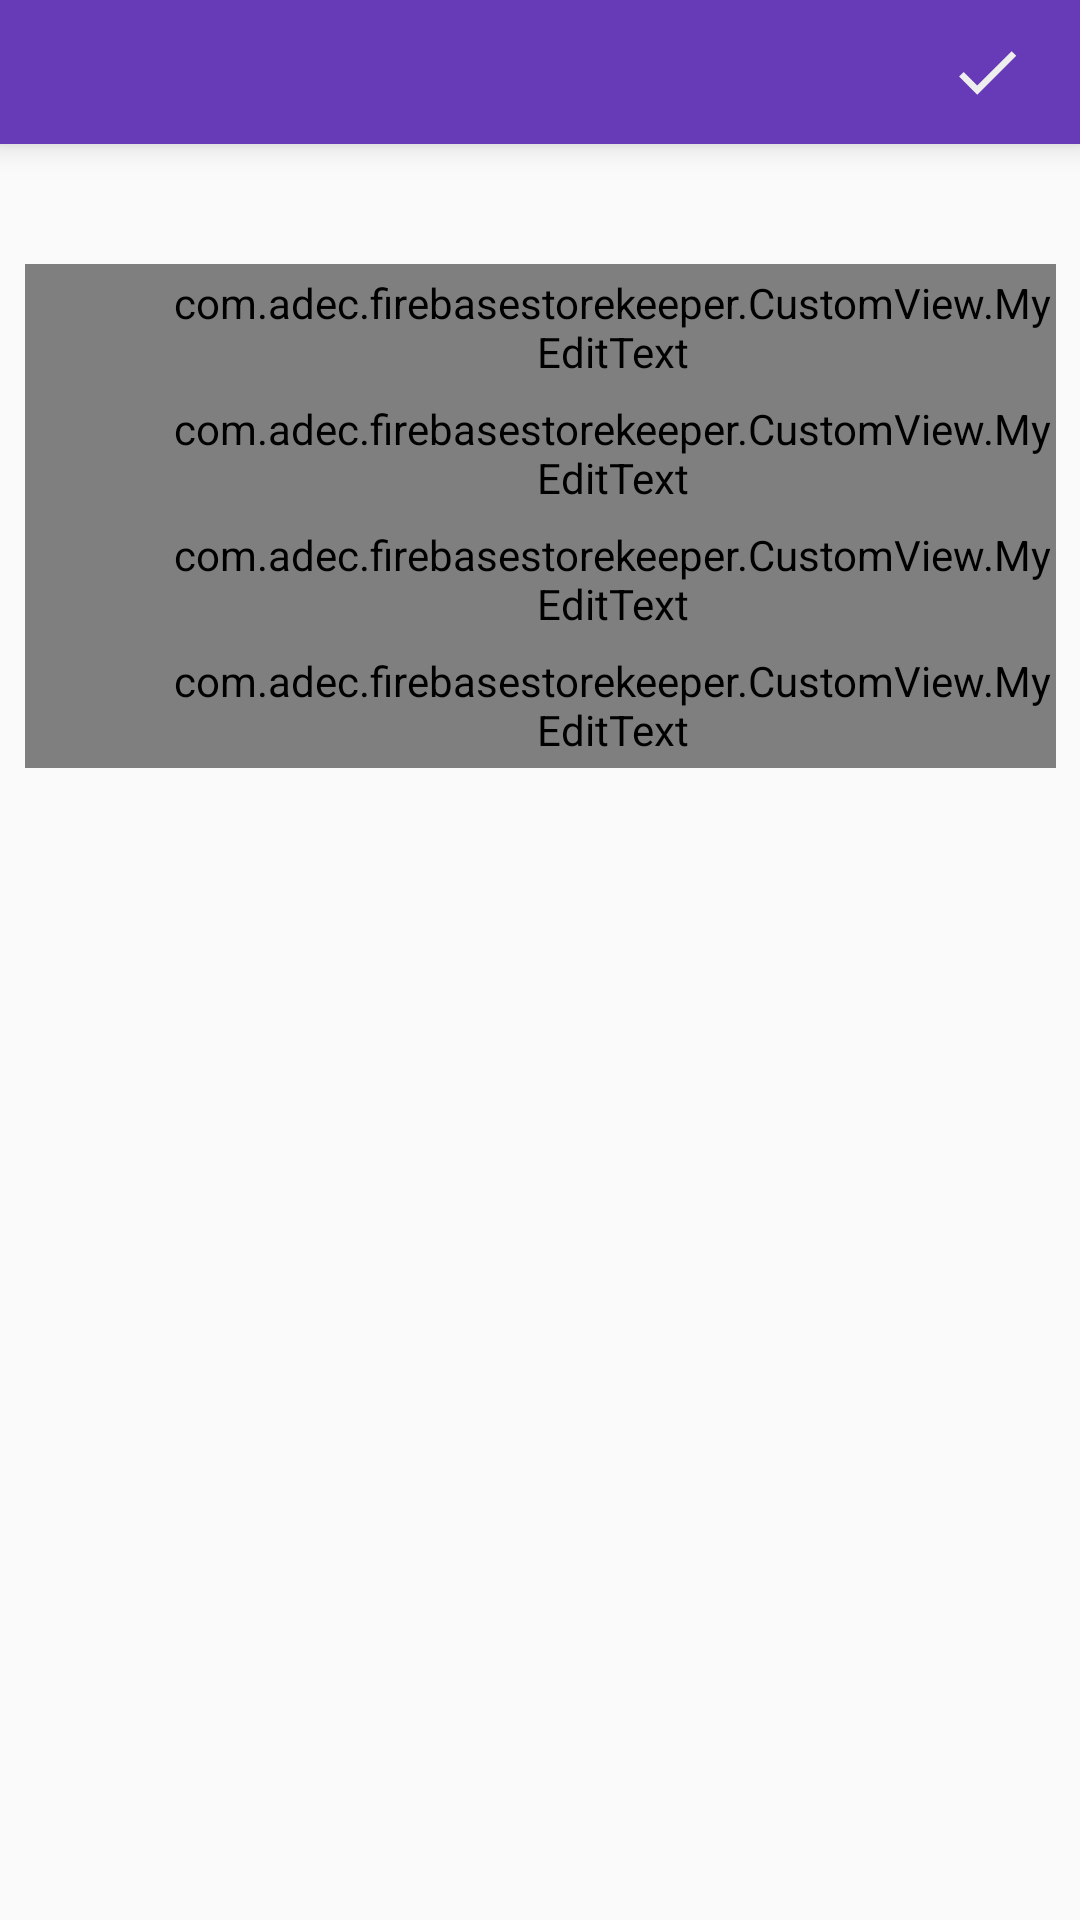

Icon click points for this 1080px×1920px phone screenshot, format [x,y]:
tick: [987,73]
